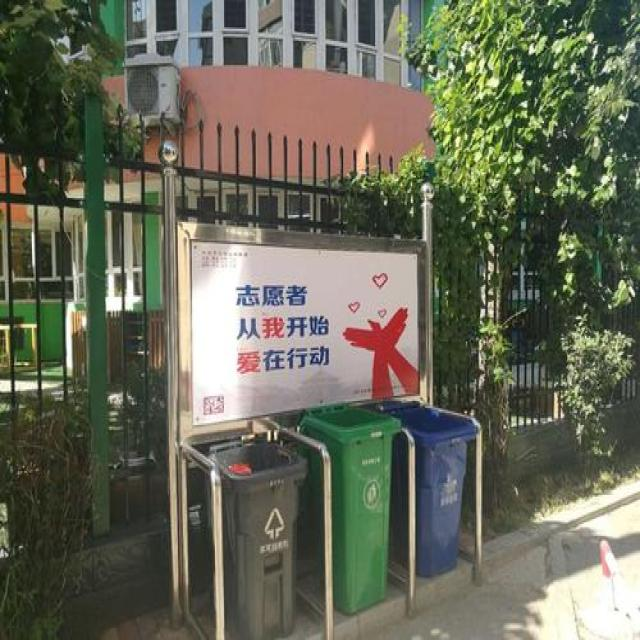garbage_bin: (297, 401, 399, 613), (208, 437, 304, 638), (382, 399, 476, 577)
